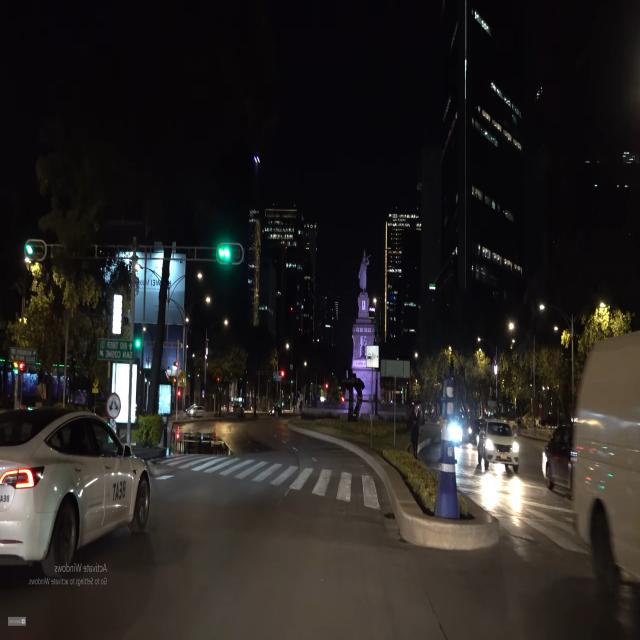headlights: (484, 433, 524, 462)
